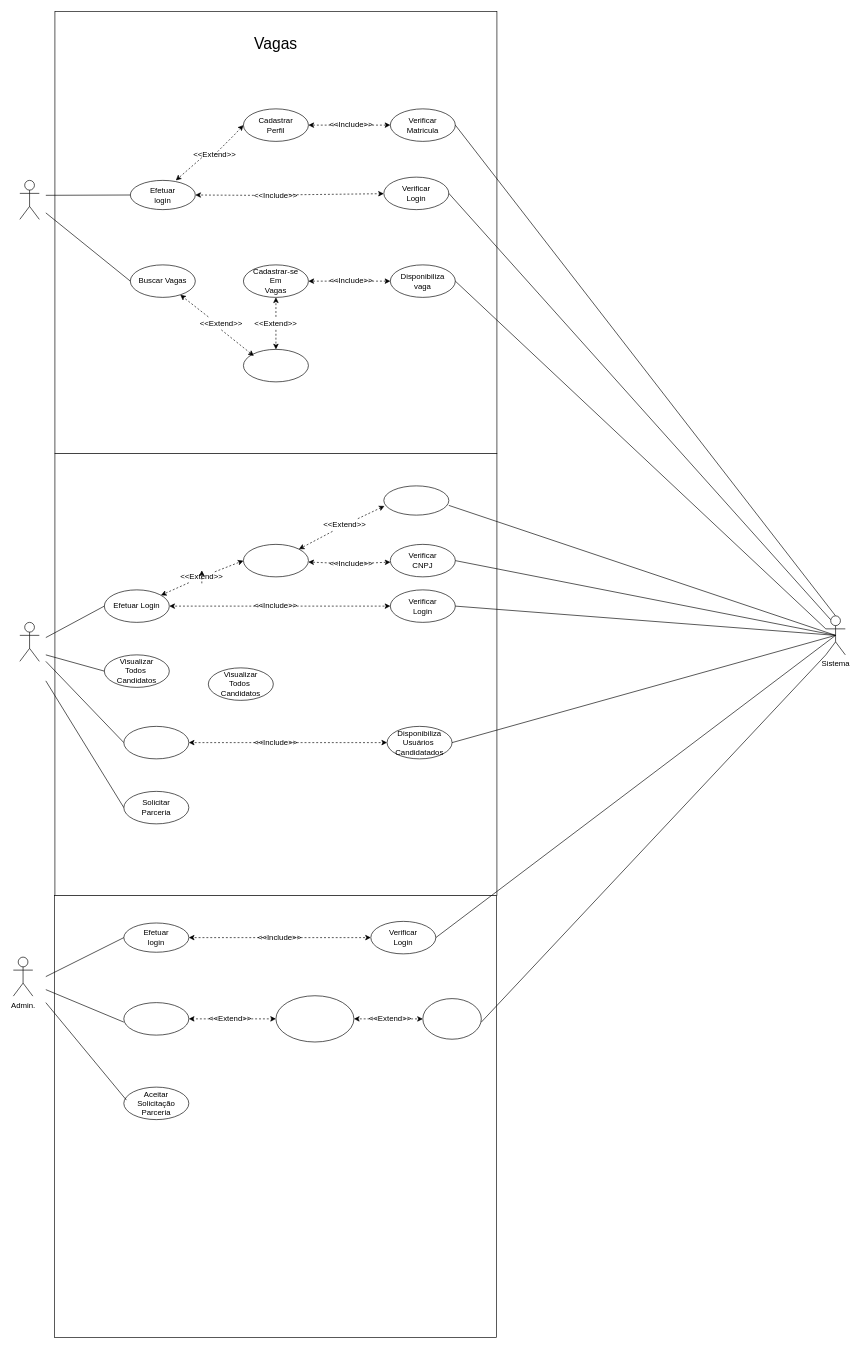
The diagram is 861 pixels wide and 1349 high, and some of its shapes have lost their labels. Here are the shapes that lost their labels. From the top down, the centre of each, then its label:
At pixel 29 199: "Candidato".
At pixel 275 365: "Visualizar Vagas".
At pixel 416 500: "Cadastrar Vaga".
At pixel 275 560: "Cadastrar Perfil Empresarial".
At pixel 29 641: "Empresa".
At pixel 156 742: "Aceita/Recusa Candidatos".
At pixel 156 1018: "Buscar Usuario/Empresa".
At pixel 314 1018: "Aceitar/recusar Cadastro das Empresa".
At pixel 451 1018: "Remover Usuários/ Empresa".
